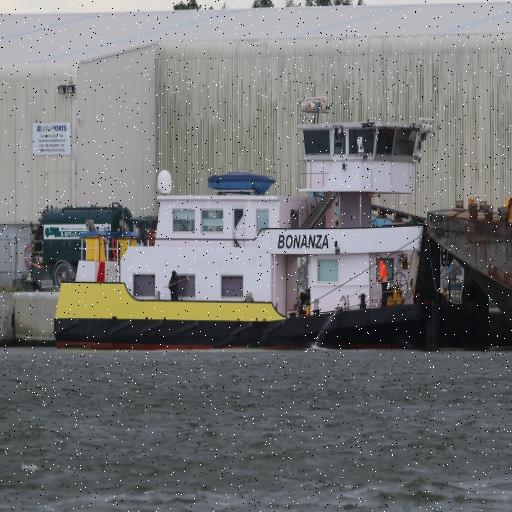tugboat: (52, 94, 503, 364)
